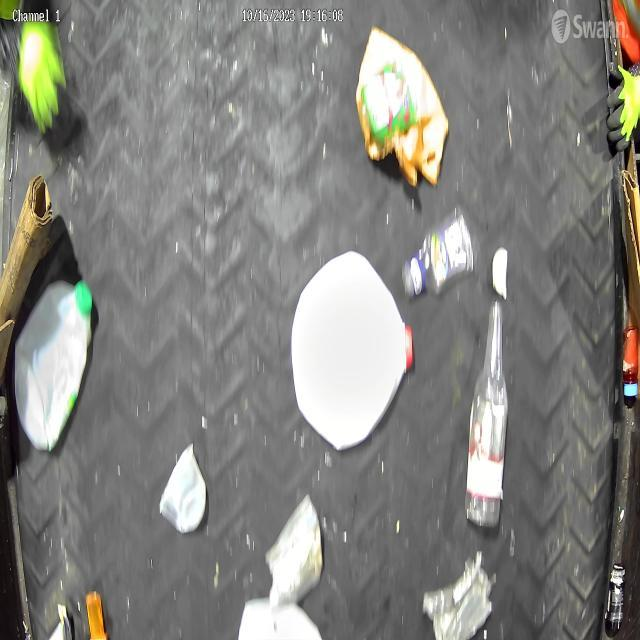can: (264, 487, 324, 616)
milk_jug: (290, 244, 414, 456), (14, 274, 94, 454)
plastic_bottle: (465, 297, 508, 528), (401, 202, 479, 300)
